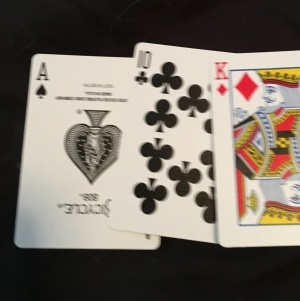card: (19, 51, 130, 250), (114, 41, 217, 245)
